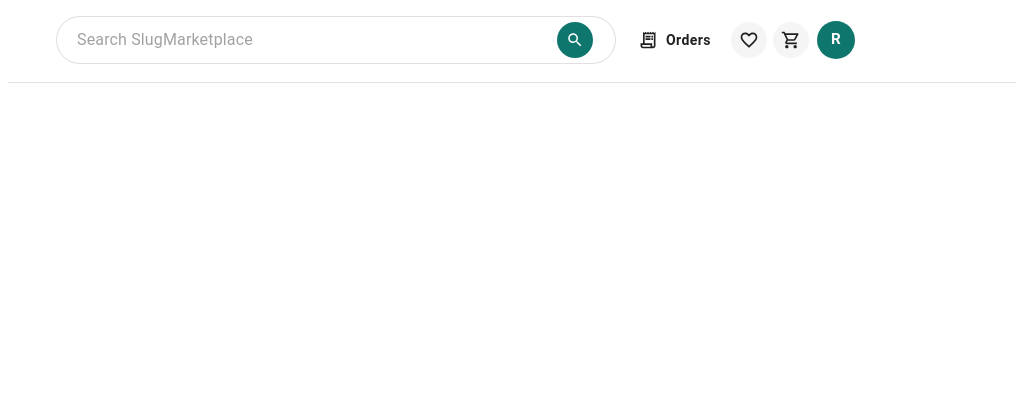
Scenario: shows the authenticated profile menu with the user name
The width and height of the screenshot is (1024, 412).
Step 1. Click the button named "Open account menu" → (836, 40), box left=815, top=19, right=857, bottom=61
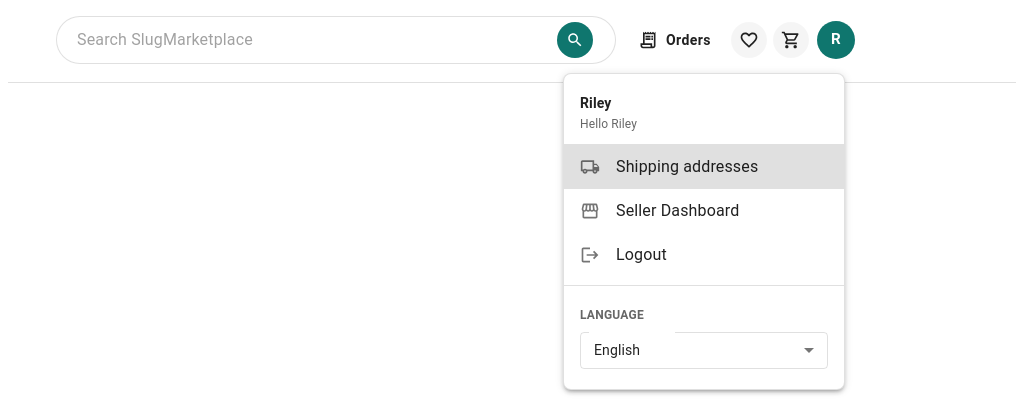
Now the text "Riley" is shown, box left=580, top=95, right=612, bottom=111
Now the menu item "Shipping addresses" is shown, box left=564, top=145, right=844, bottom=189
